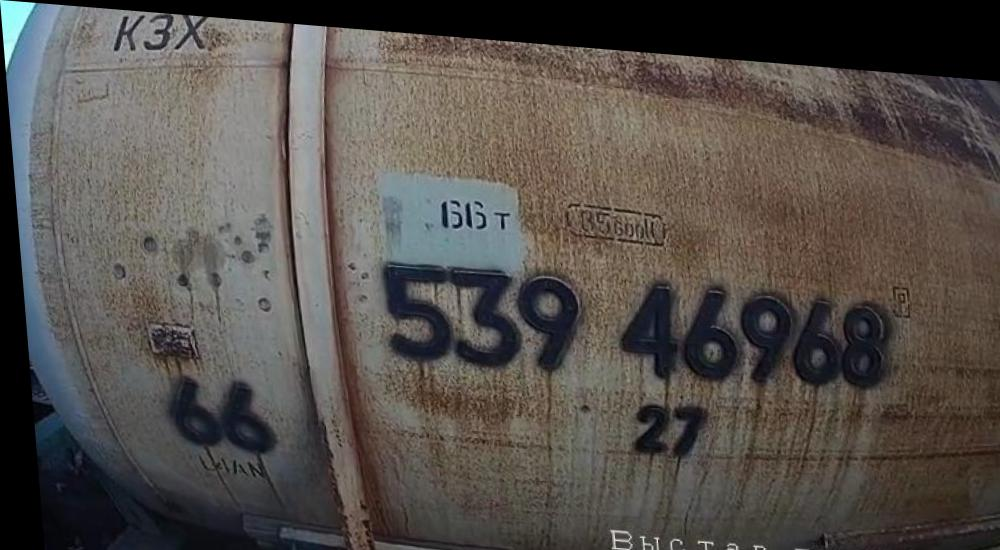Wagon-number: (372, 248, 893, 388)
